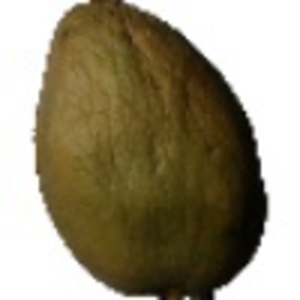mamão: (22, 3, 270, 290)
